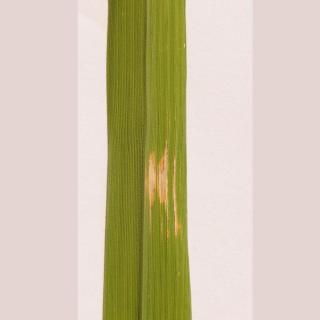Hawar-Daun: (146, 147, 187, 236)
